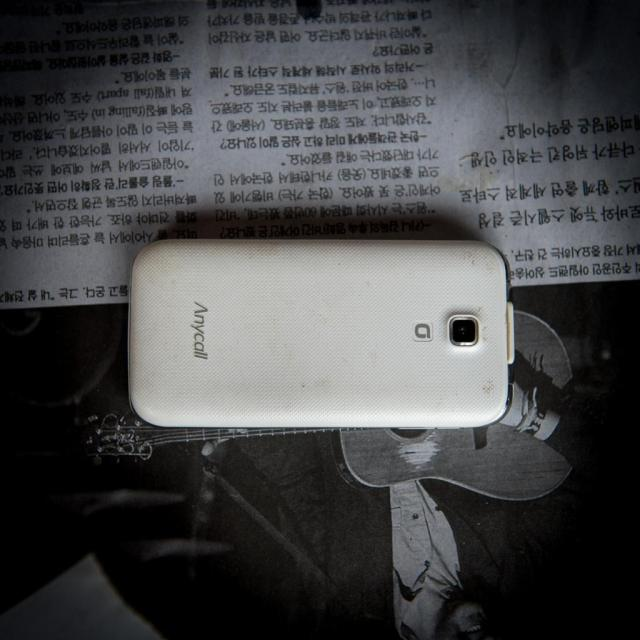Phone: (129, 231, 517, 431)
